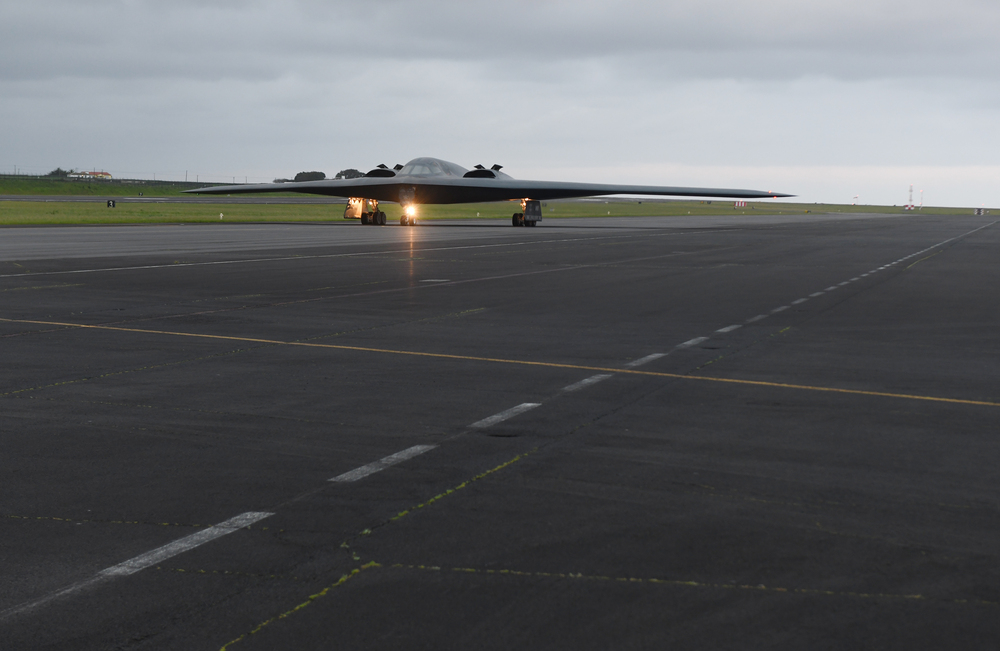B2: (178, 156, 799, 227)
